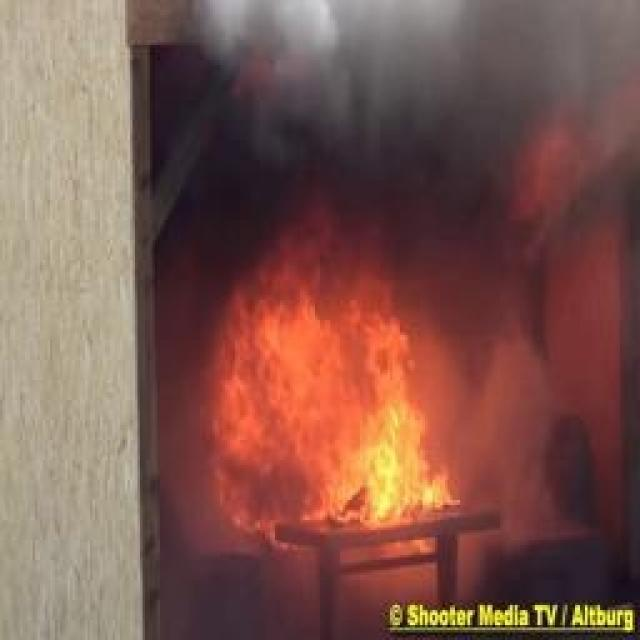fire: (205, 252, 497, 542)
